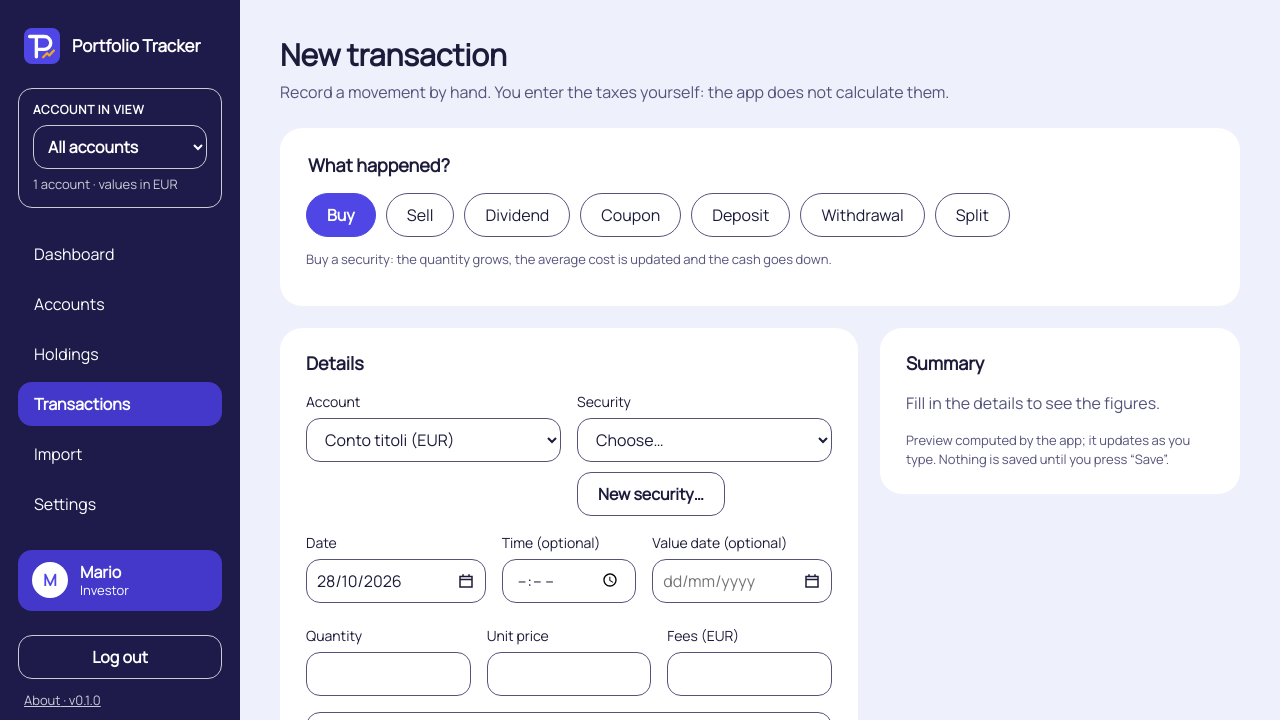
Test: new transaction form › shows the server's figures as you type and saves exactly what it completed
Check: the heading "New transaction" is shown, box [280,34,507,75]
Check: the dropdown labelled "Account" shows "Conto titoli (EUR)", box [306,418,561,462]
Select "Mondo Azionario ETF · EUR" in the dropdown labelled "Security" at (704,440), box [577,418,832,462]
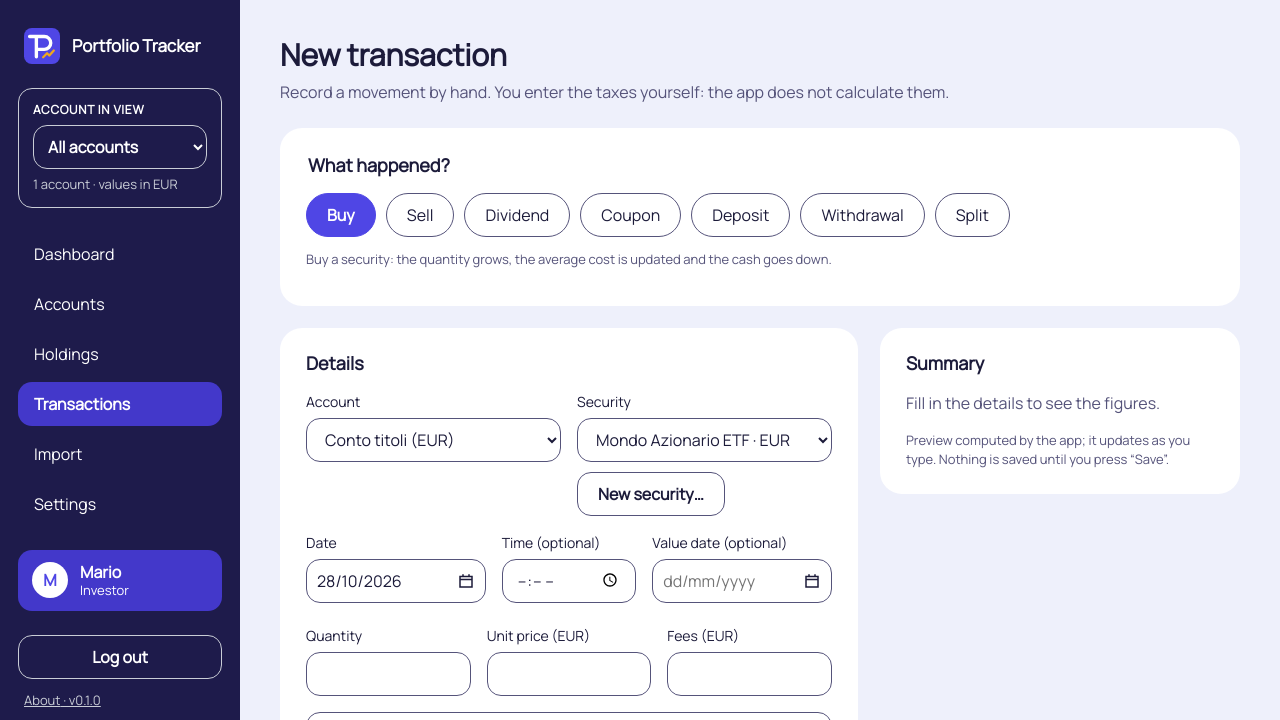
Replace the text in the field labelled "Date" with "12/10/2026" at (396,580), box [306,558,486,602]
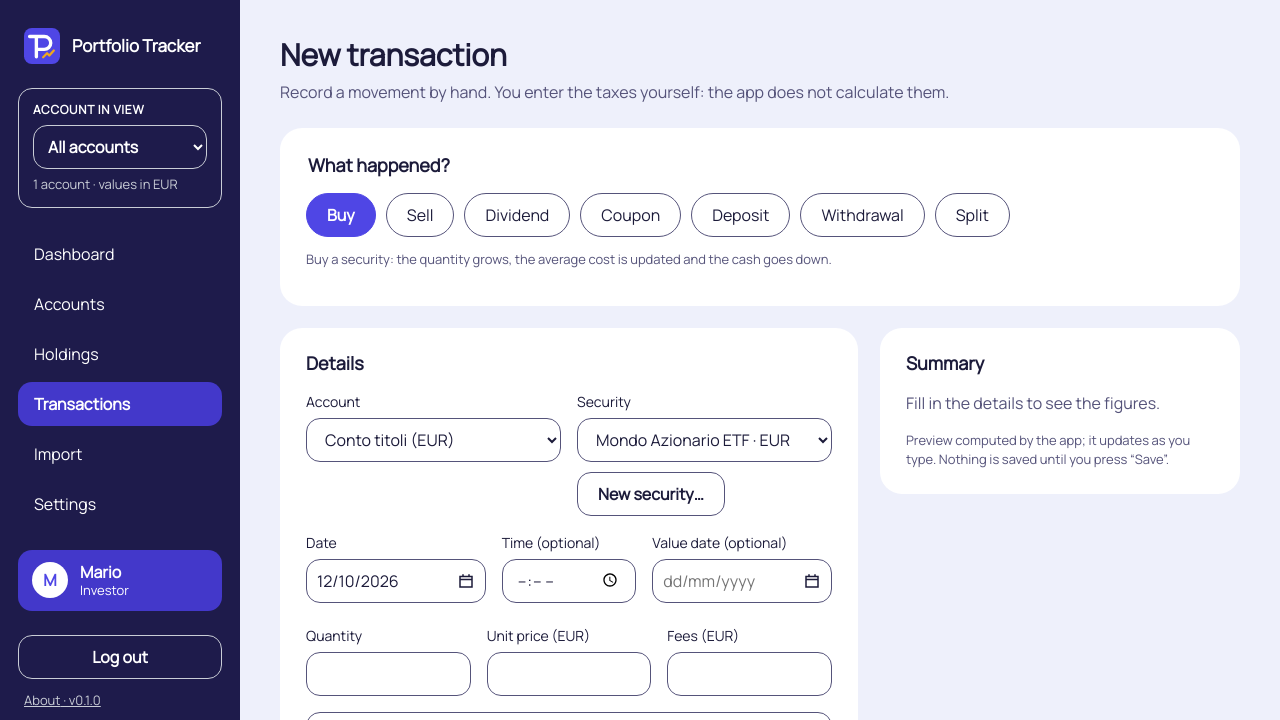
Type "15" into the field labelled "Quantity".
click(388, 674); type("15")  # box [306,652,471,696]
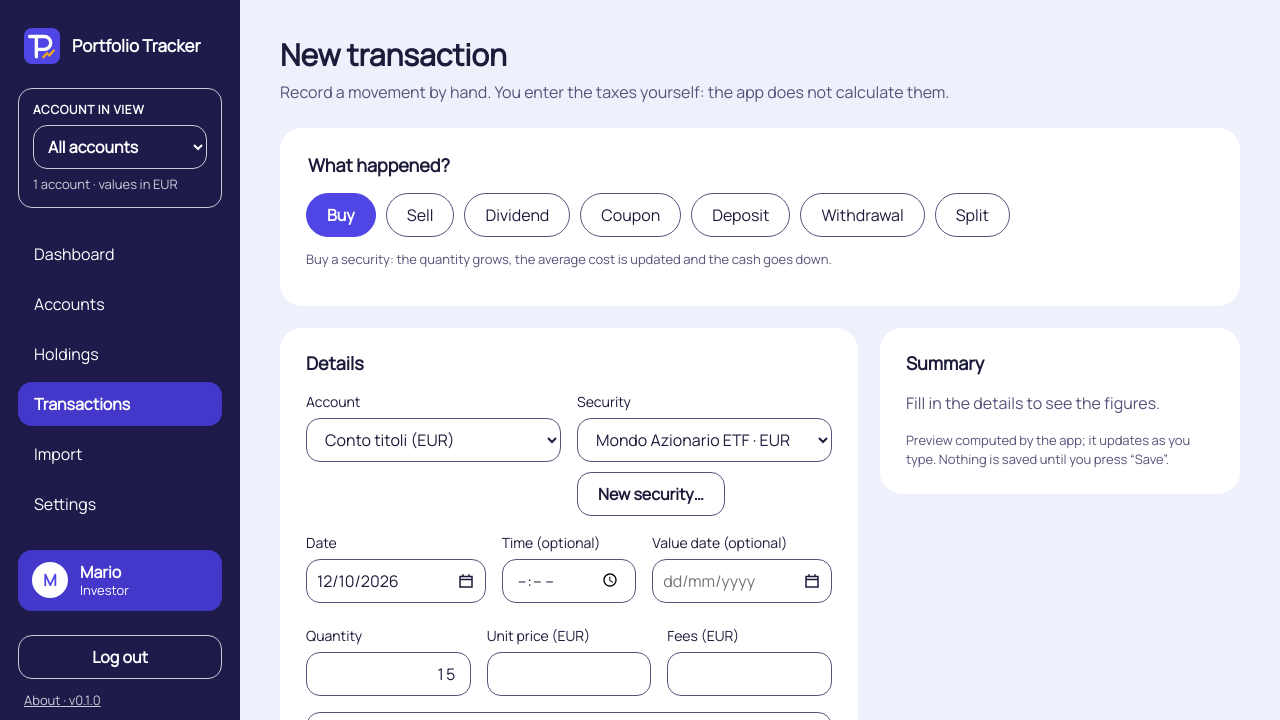
Type "101.80" into the field labelled "Unit price (EUR)".
click(569, 674); type("101.80")  # box [487,652,651,696]
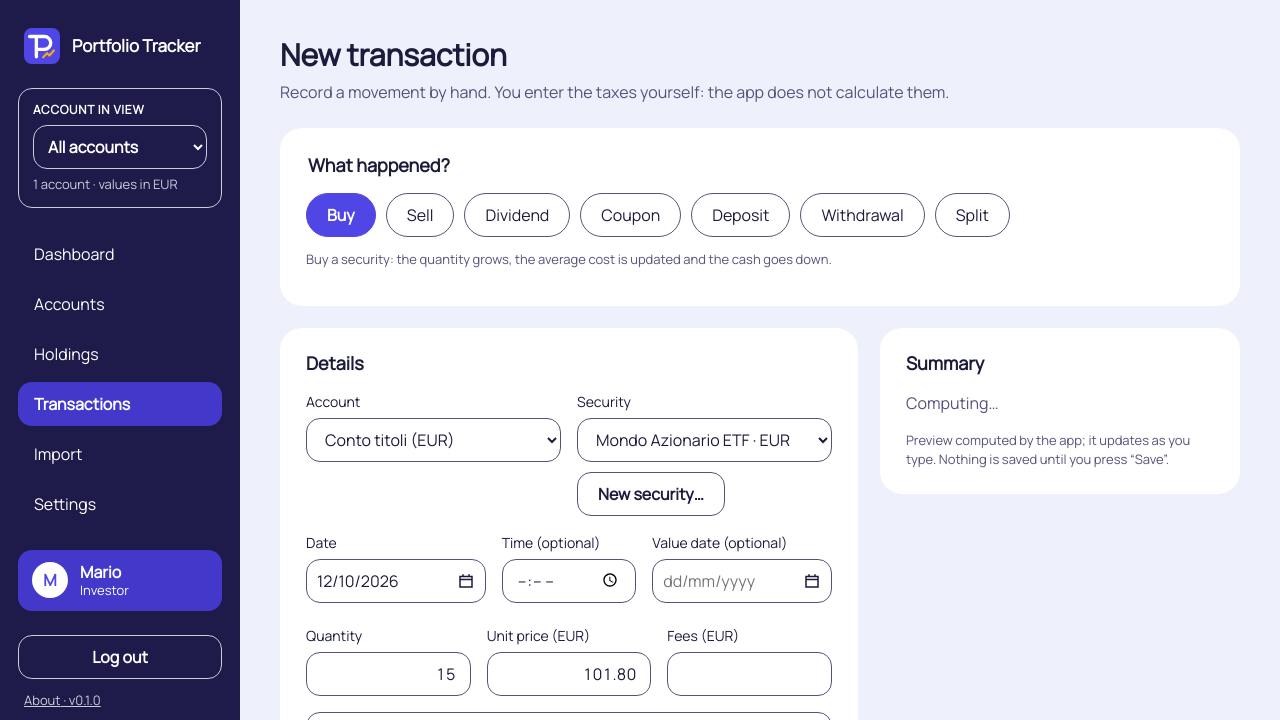
Type "3.00" into the field labelled "Fees (EUR)".
click(750, 674); type("3.00")  # box [667,652,832,696]
(page scrolled)
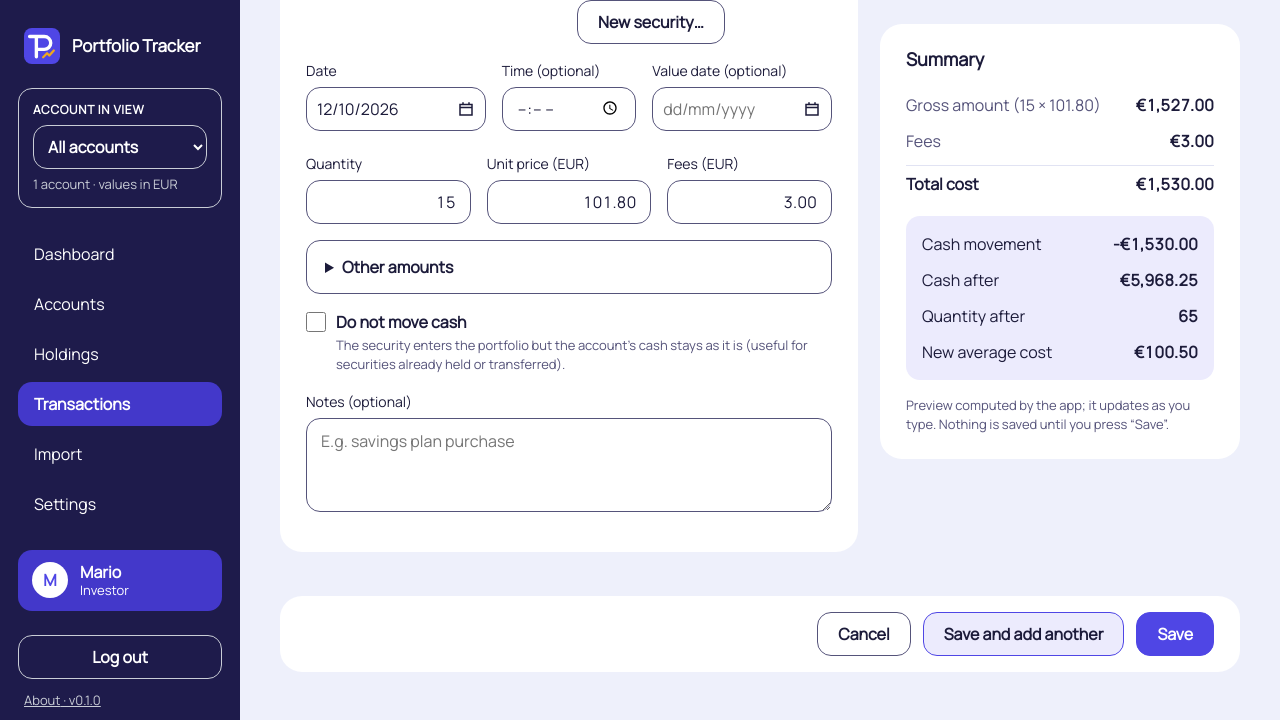
Check: the text "Gross amount (15 × 101.80)" is shown, box [906,92,1101,116]
Check: the text "€1,527.00" is shown, box [1136,92,1214,116]
Check: the text "€1,530.00" is shown, box [1136,172,1214,196]
Click the button "Save".
click(1175, 634)  # box [1136,612,1214,656]
(page scrolled)
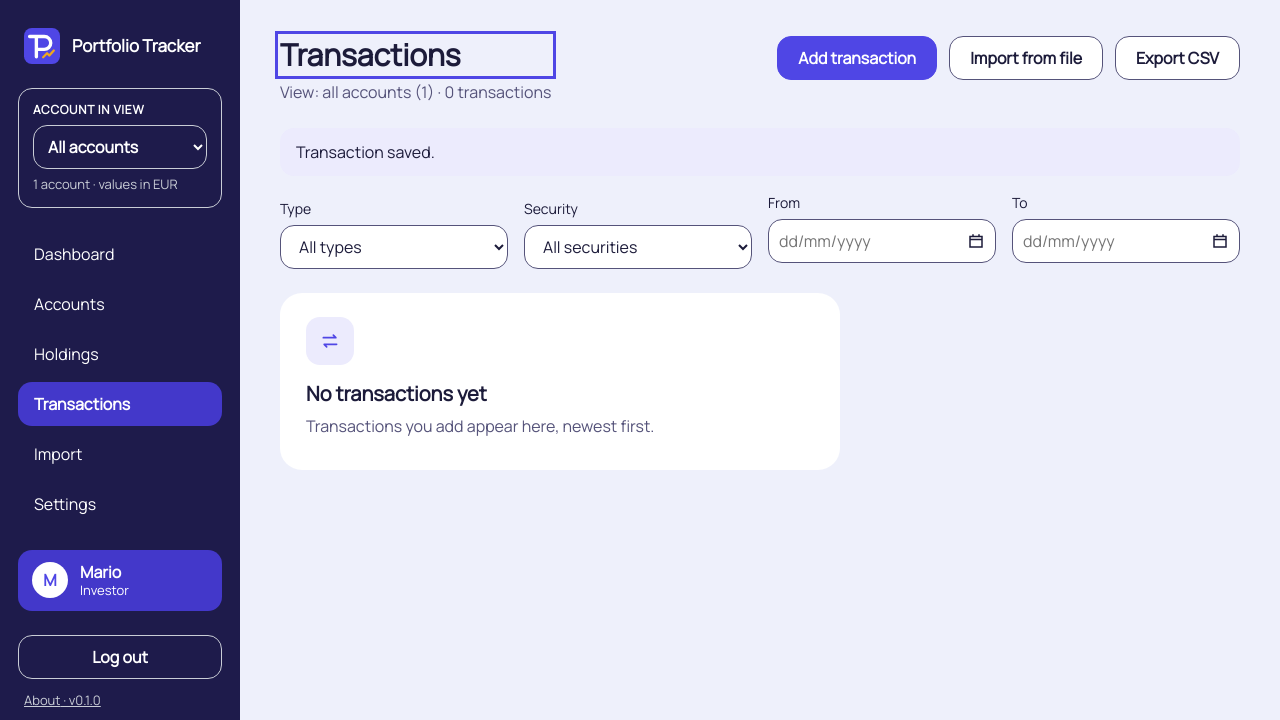
Check: the text "Transaction saved." is shown, box [296,140,435,162]
